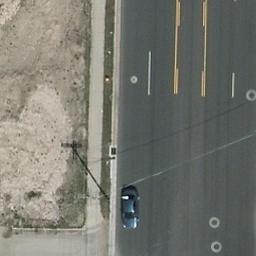car: (120, 188, 139, 230)
